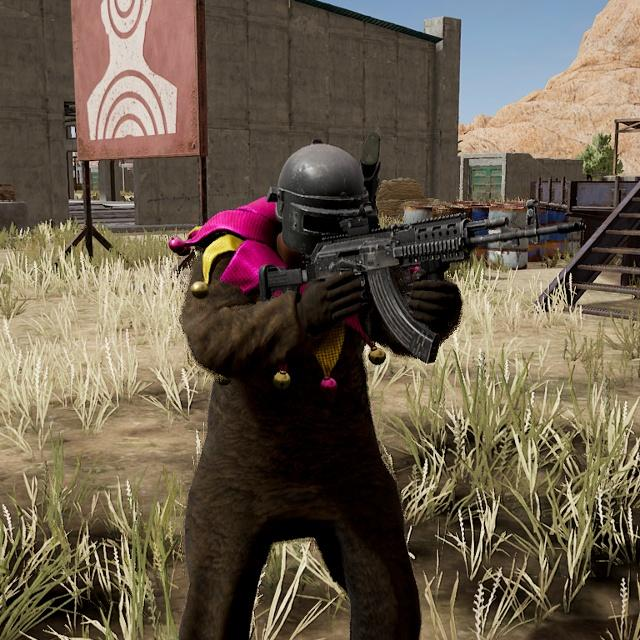head: (270, 140, 379, 266)
people: (158, 135, 463, 640)
